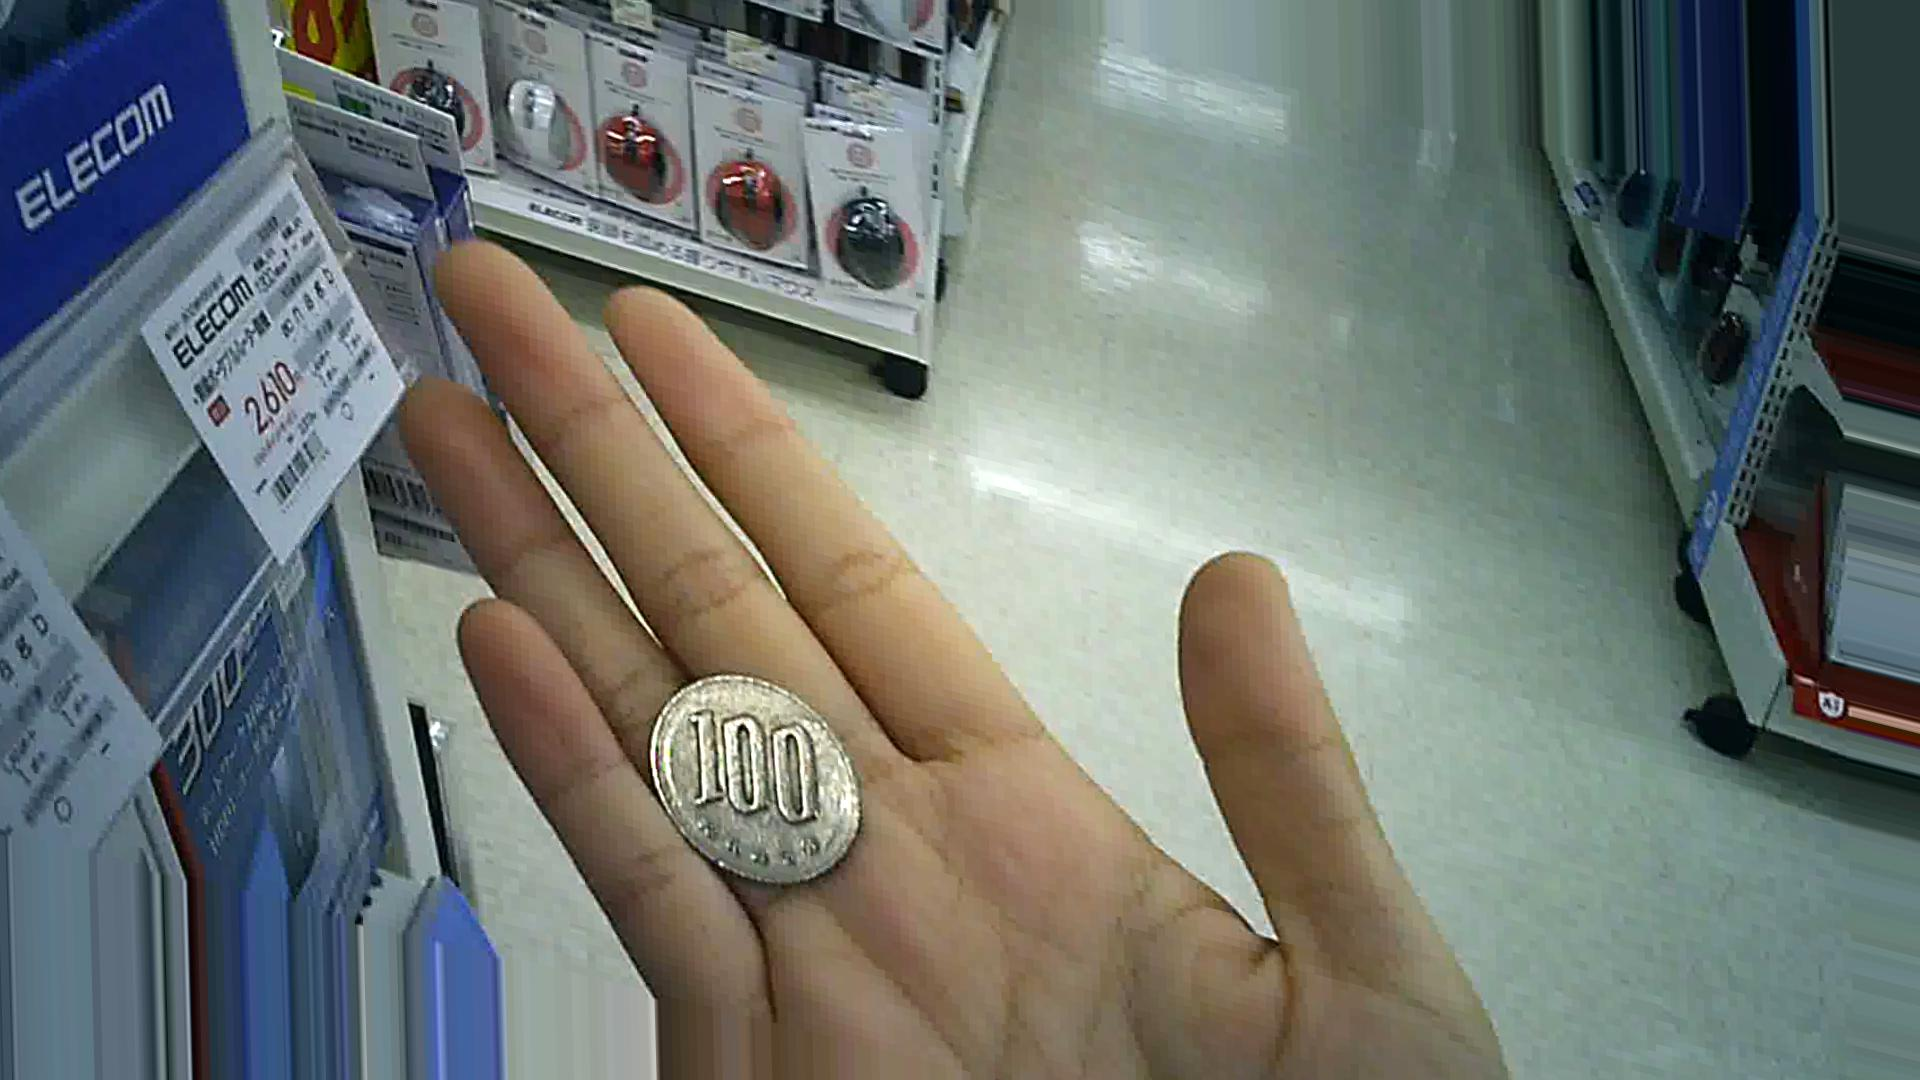100 Yen: (646, 676, 880, 887)
